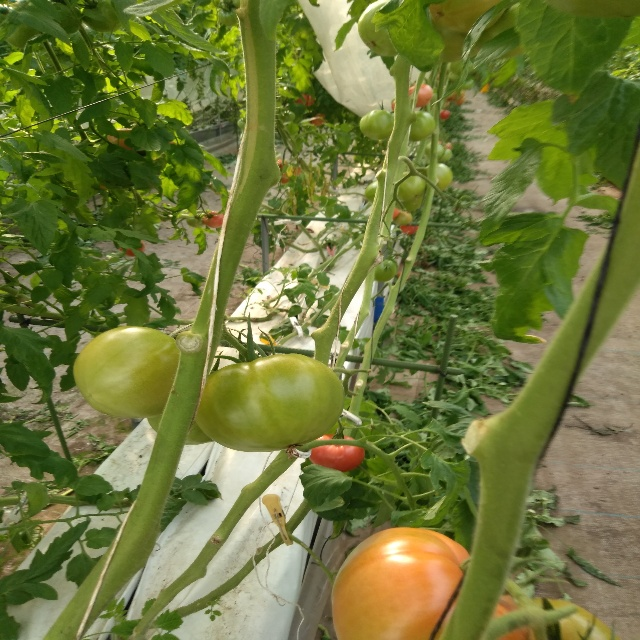b_fully_ripened: (307, 434, 364, 472)
b_green: (194, 353, 345, 452), (72, 326, 181, 418), (430, 0, 512, 34), (357, 0, 398, 57), (146, 412, 215, 445), (546, 0, 639, 18), (359, 109, 395, 140), (408, 111, 436, 142)
b_half_ripened: (331, 527, 530, 640), (512, 596, 617, 640)
